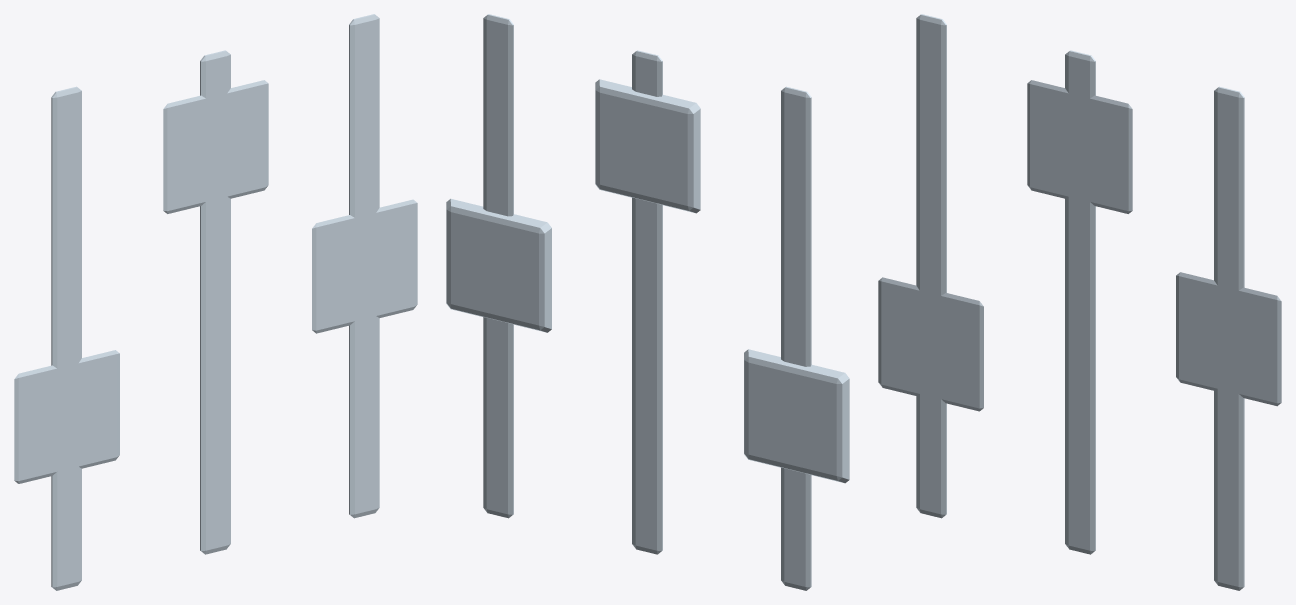
Rendered from Settings_3D_Icon_01.fbx.
3 renders of one model, left to right at view 1: azimuth 30°, elevation 25°; view 2: azimuth 150°, elevation 25°; view 3: azimuth 330°, elevation 25°, orthographic.
Visible parts, largest first — view 1: Settings_3D_Icon_01; view 2: Settings_3D_Icon_01; view 3: Settings_3D_Icon_01.
Part boxes in pixels (<box>): Settings_3D_Icon_01: <box>14,14,417,590</box>; Settings_3D_Icon_01: <box>446,14,849,590</box>; Settings_3D_Icon_01: <box>878,14,1281,590</box>.
Size of the model in its own units: 100 by 118 by 2.09.
